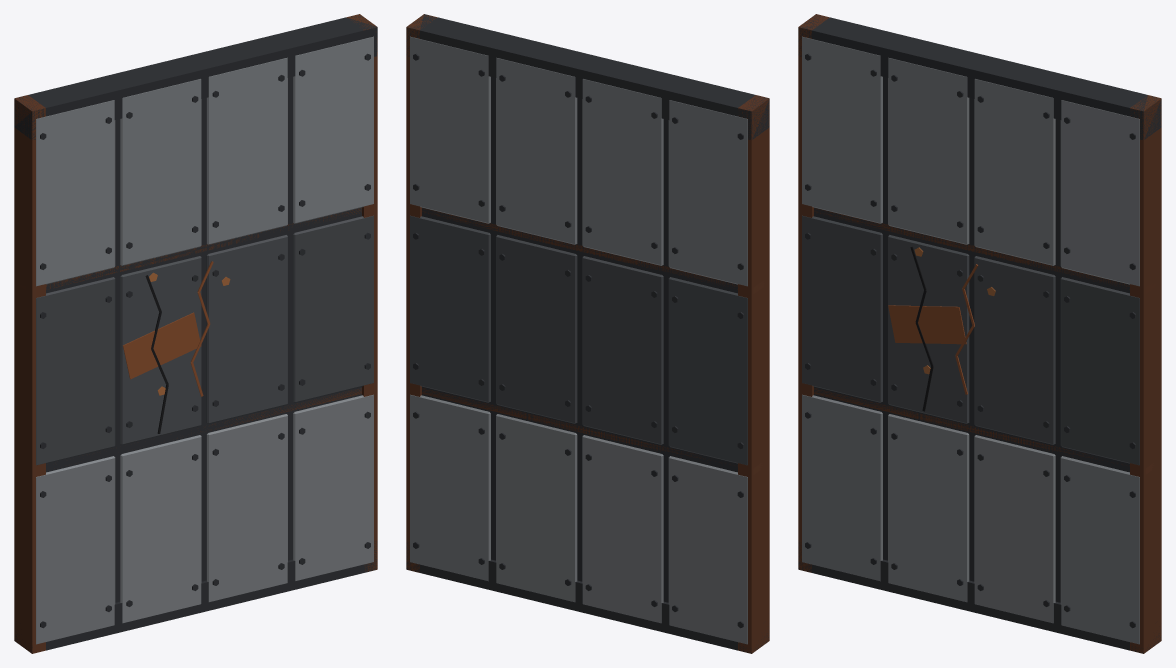
File: piece_wall_steel_damaged.fbx
The picture shows the model from 3 angles, left to right: view 1: azimuth 30°, elevation 25°; view 2: azimuth 150°, elevation 25°; view 3: azimuth 330°, elevation 25°; orthographic projection.
Parts seen in each view (by area): view 1: piece_wall_steel_damaged; view 2: piece_wall_steel_damaged; view 3: piece_wall_steel_damaged.
Boxes of the visible parts, x1,y1,x2,y2 form: piece_wall_steel_damaged: [14, 14, 377, 653]; piece_wall_steel_damaged: [406, 14, 769, 653]; piece_wall_steel_damaged: [798, 14, 1161, 653].
Bounding box in the file's own units: 2 × 3 × 0.2.
